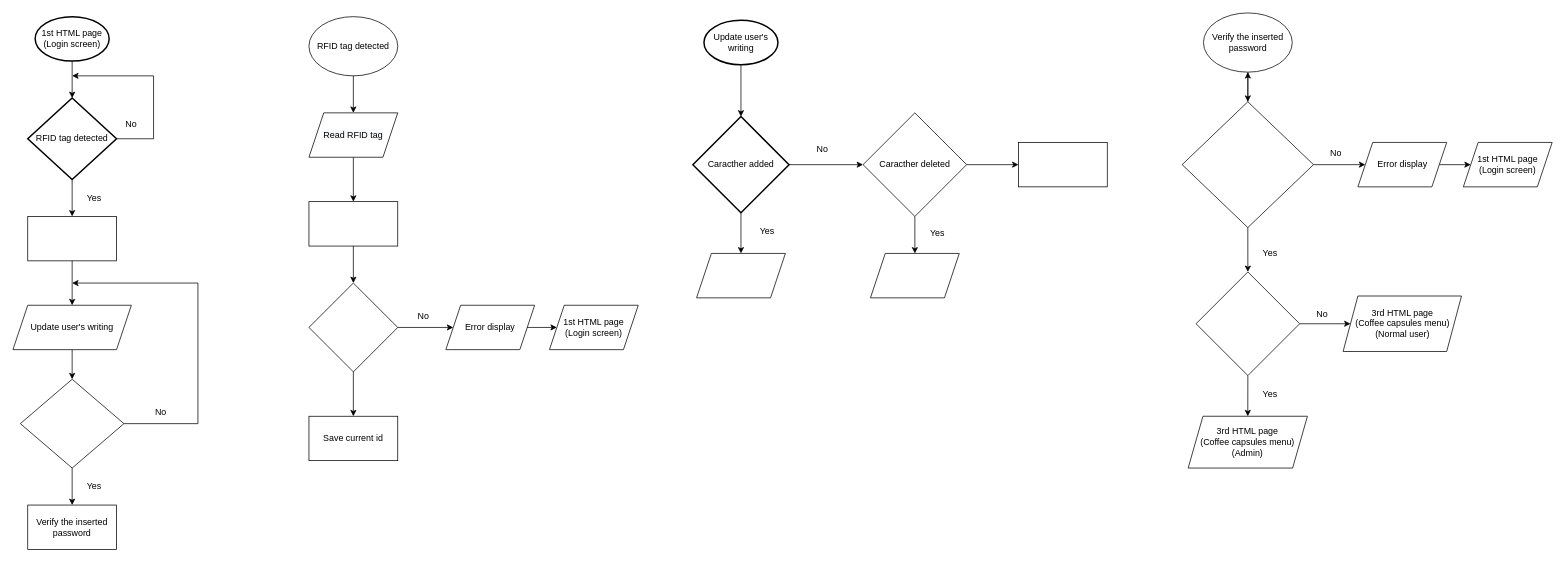
The diagram is 1565 pixels wide and 562 high, and some of its shapes have lost their labels. The box of each missing label's shape, as (x1, y1, x2, y2) in pixels:
2nd HTML page (Virtual keyboard): (27, 216, 117, 261)
Add selected caracther: (696, 253, 785, 298)
Delete last caracther: (870, 253, 959, 298)
Do nothing: (1018, 142, 1107, 187)
Login button pressed: (20, 379, 124, 468)
Tag exists: (308, 282, 398, 372)
The autenticated user is the Admin: (1195, 271, 1300, 376)
The password inserted matches the user's password: (1181, 101, 1314, 228)
Verify the tag id: (308, 201, 398, 246)
